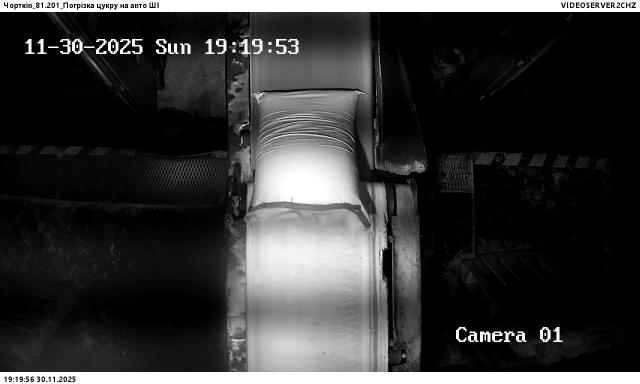bag: (249, 91, 374, 233)
